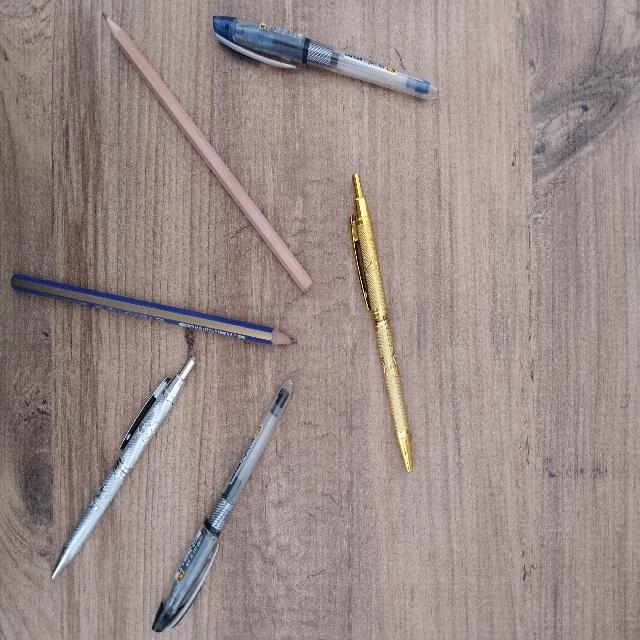pen: (152, 380, 292, 631), (213, 16, 437, 98)
pencil: (103, 13, 310, 290), (11, 274, 296, 344)
signature pen: (52, 357, 194, 578), (350, 174, 412, 471)
